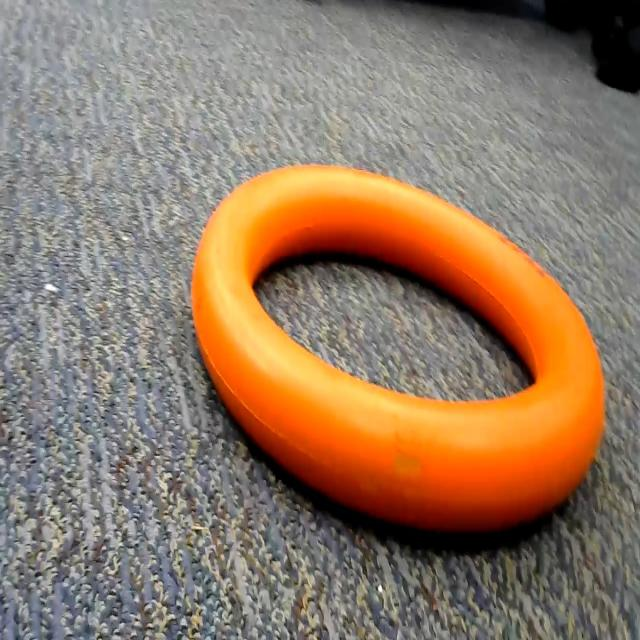note: (187, 157, 611, 551)
